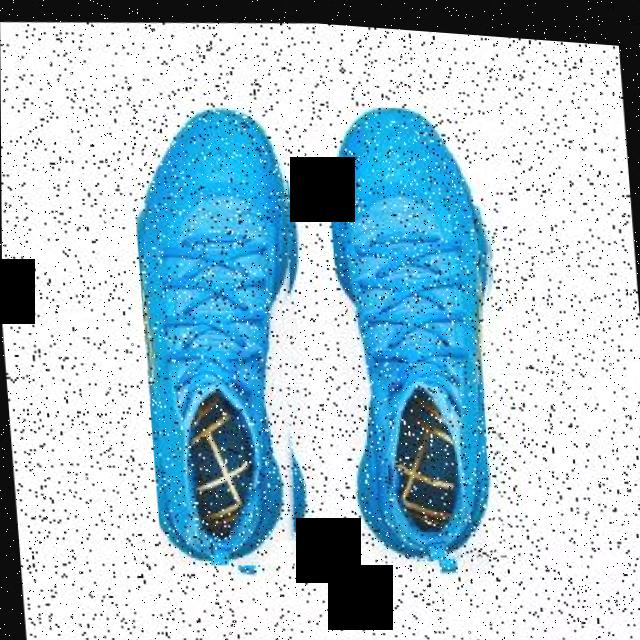shoe: (127, 93, 321, 573), (322, 91, 516, 566)
